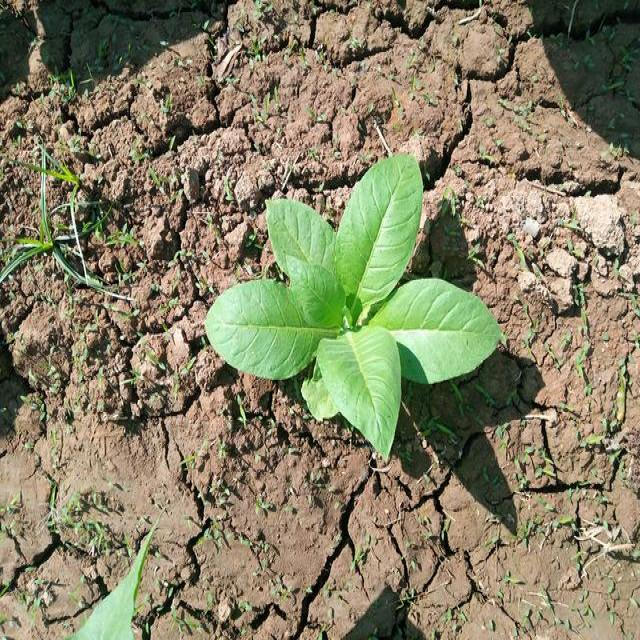crop: (206, 159, 496, 435)
